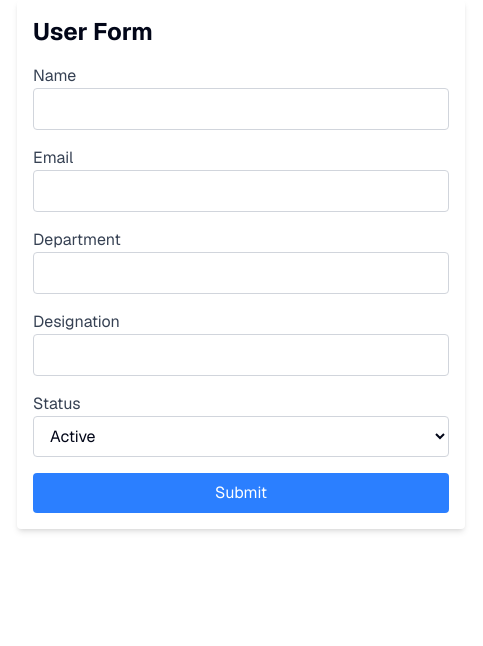
it: UserForm Component › shows validation when email is invalid and form is submitted
Type "adarsh.kaul" into the field labelled "Email". click: (241, 191)
box: [33,170,449,212]
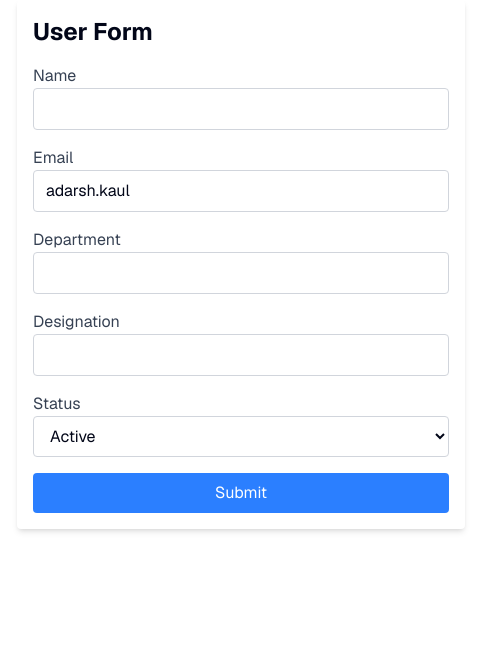
Click the button "Submit". click: (241, 493)
box: [33,473,449,513]
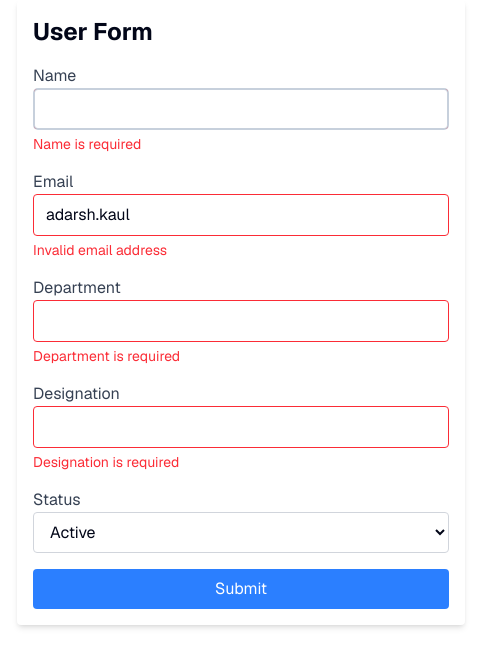
Check: the text "Invalid email address" is shown, box [33,241,167,259]
